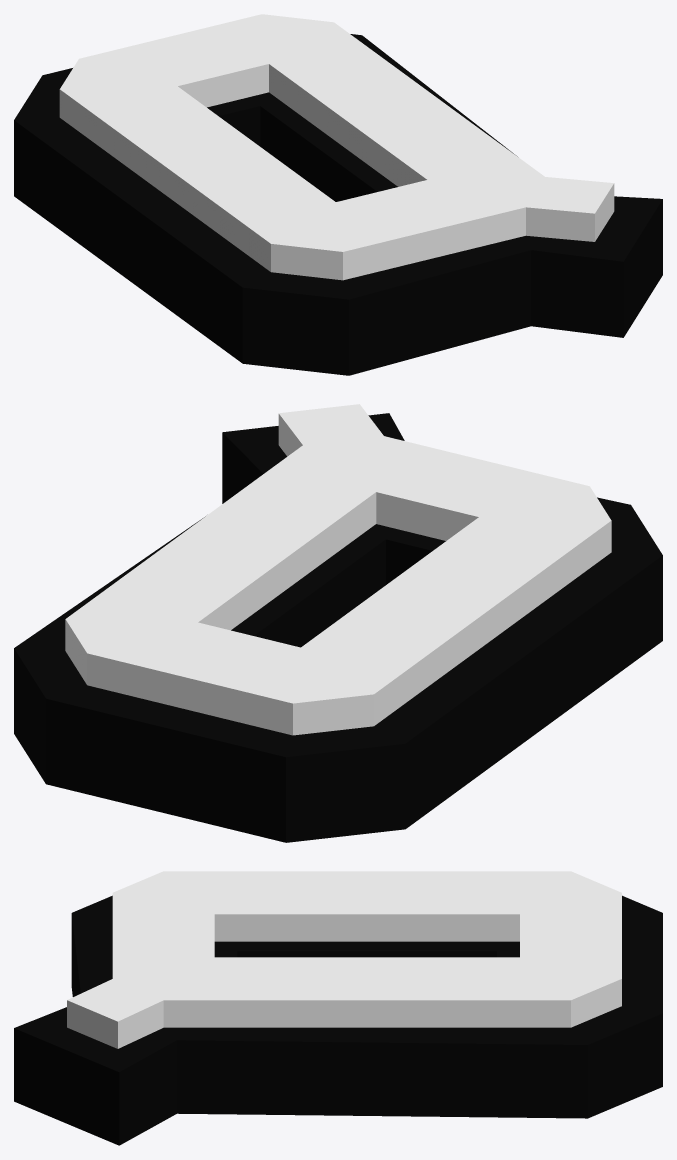
Rendered from txt_q.glb.
3 views of the same model, one above another, from view 1: azimuth 30°, elevation 25°; view 2: azimuth 150°, elevation 25°; view 3: azimuth 270°, elevation 25° (orthographic). The views are drawn at different scales.
Parts seen in each view (by area): view 1: Q; view 2: Q; view 3: Q.
Boxes of the visible parts, <box> form: Q: <box>14,14,662,375</box>; Q: <box>14,404,662,842</box>; Q: <box>14,871,662,1145</box>.
Bounding box in the file's own units: 0.7993 × 0.1966 × 1.15.
1 material, 1 textured.
